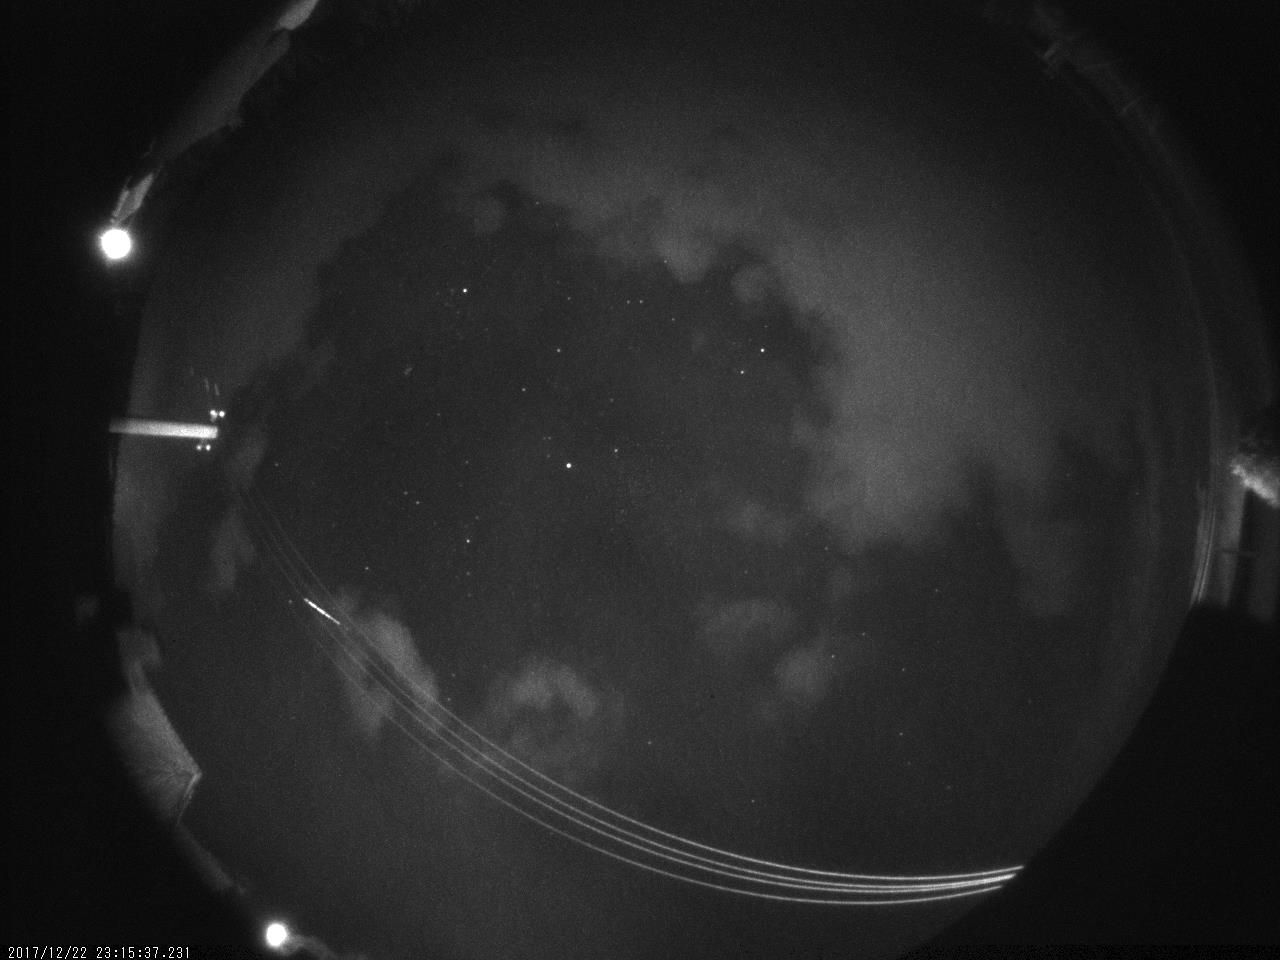meteor: (261, 584, 370, 633)
